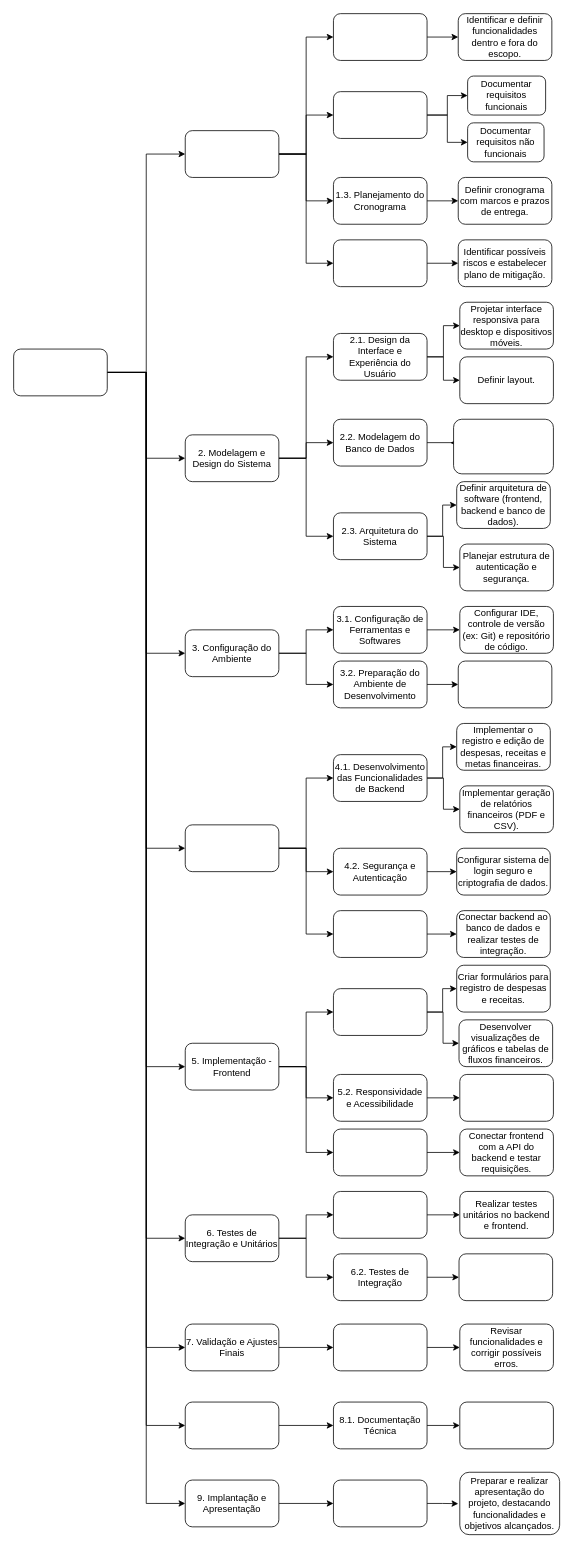
This 573x1548 diagram has some shape labels left out. Here are the shapes that lost their labels. From the top down, the centre of each, then its label:
At pixel 380 36: "1.1. Definição do Escopo".
At pixel 380 114: "1.2. Levantamento de Requisitos".
At pixel 231 153: "1. Planejamento e Definição de Requisitos".
At pixel 380 263: "1.4. Análise de Riscos".
At pixel 60 372: "Projeto Financix".
At pixel 503 446: "Criar modelo de dados para armazenamento de despesas, receitas e categorias.".
At pixel 504 684: "Configurar servidor de desenvolvimento e banco de dados local.".
At pixel 231 848: "4. Implementação - Backend".
At pixel 380 933: "4.3. Integração com Banco de Dados".
At pixel 380 1011: "5.1. Desenvolvimento da Interface de Usuário".
At pixel 506 1097: "Garantir que a interface se adapte bem em diferentes dispositivos.".
At pixel 380 1152: "5.3. Integração com Backend".
At pixel 380 1214: "6.1. Testes de Funcionalidades".
At pixel 505 1277: "Testar integração entre frontend, backend e banco de dados.".
At pixel 380 1347: "7.1. Revisão de Funcionalidades e Correção de Bugs".
At pixel 231 1425: "8. Documentação".
At pixel 506 1425: "Documentar arquitetura e banco de dados".
At pixel 380 1503: "9.2. Apresentação Final".
